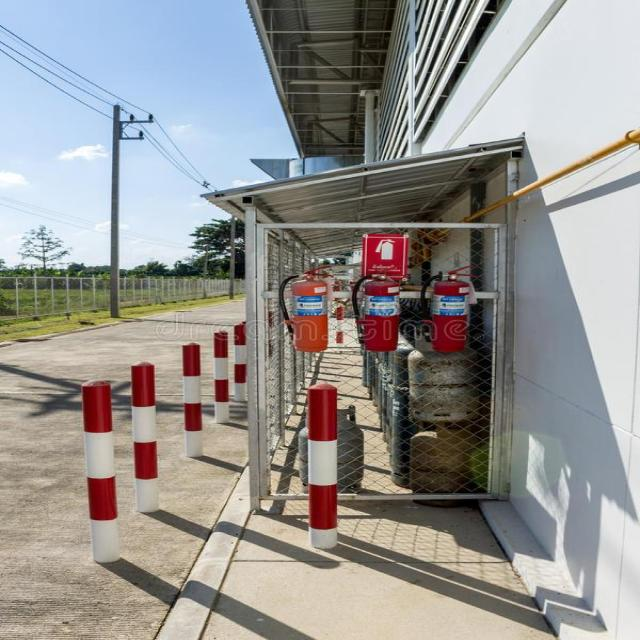fire_extinguisher: (417, 261, 483, 357), (276, 260, 339, 354), (349, 260, 409, 352)
